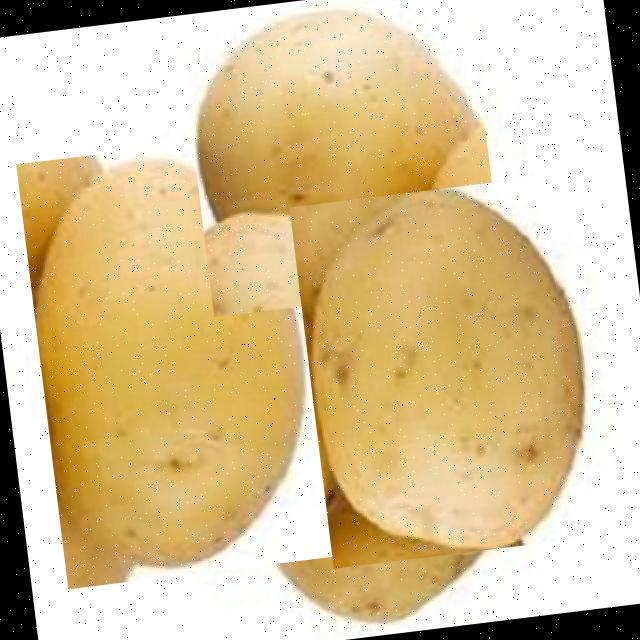Potato: (288, 174, 608, 568), (32, 148, 307, 577), (177, 0, 502, 317), (234, 333, 515, 636)
